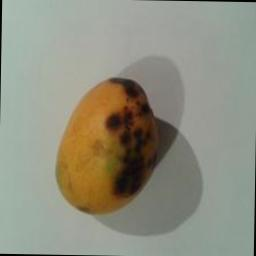Mango Rotten: (48, 74, 164, 224)
